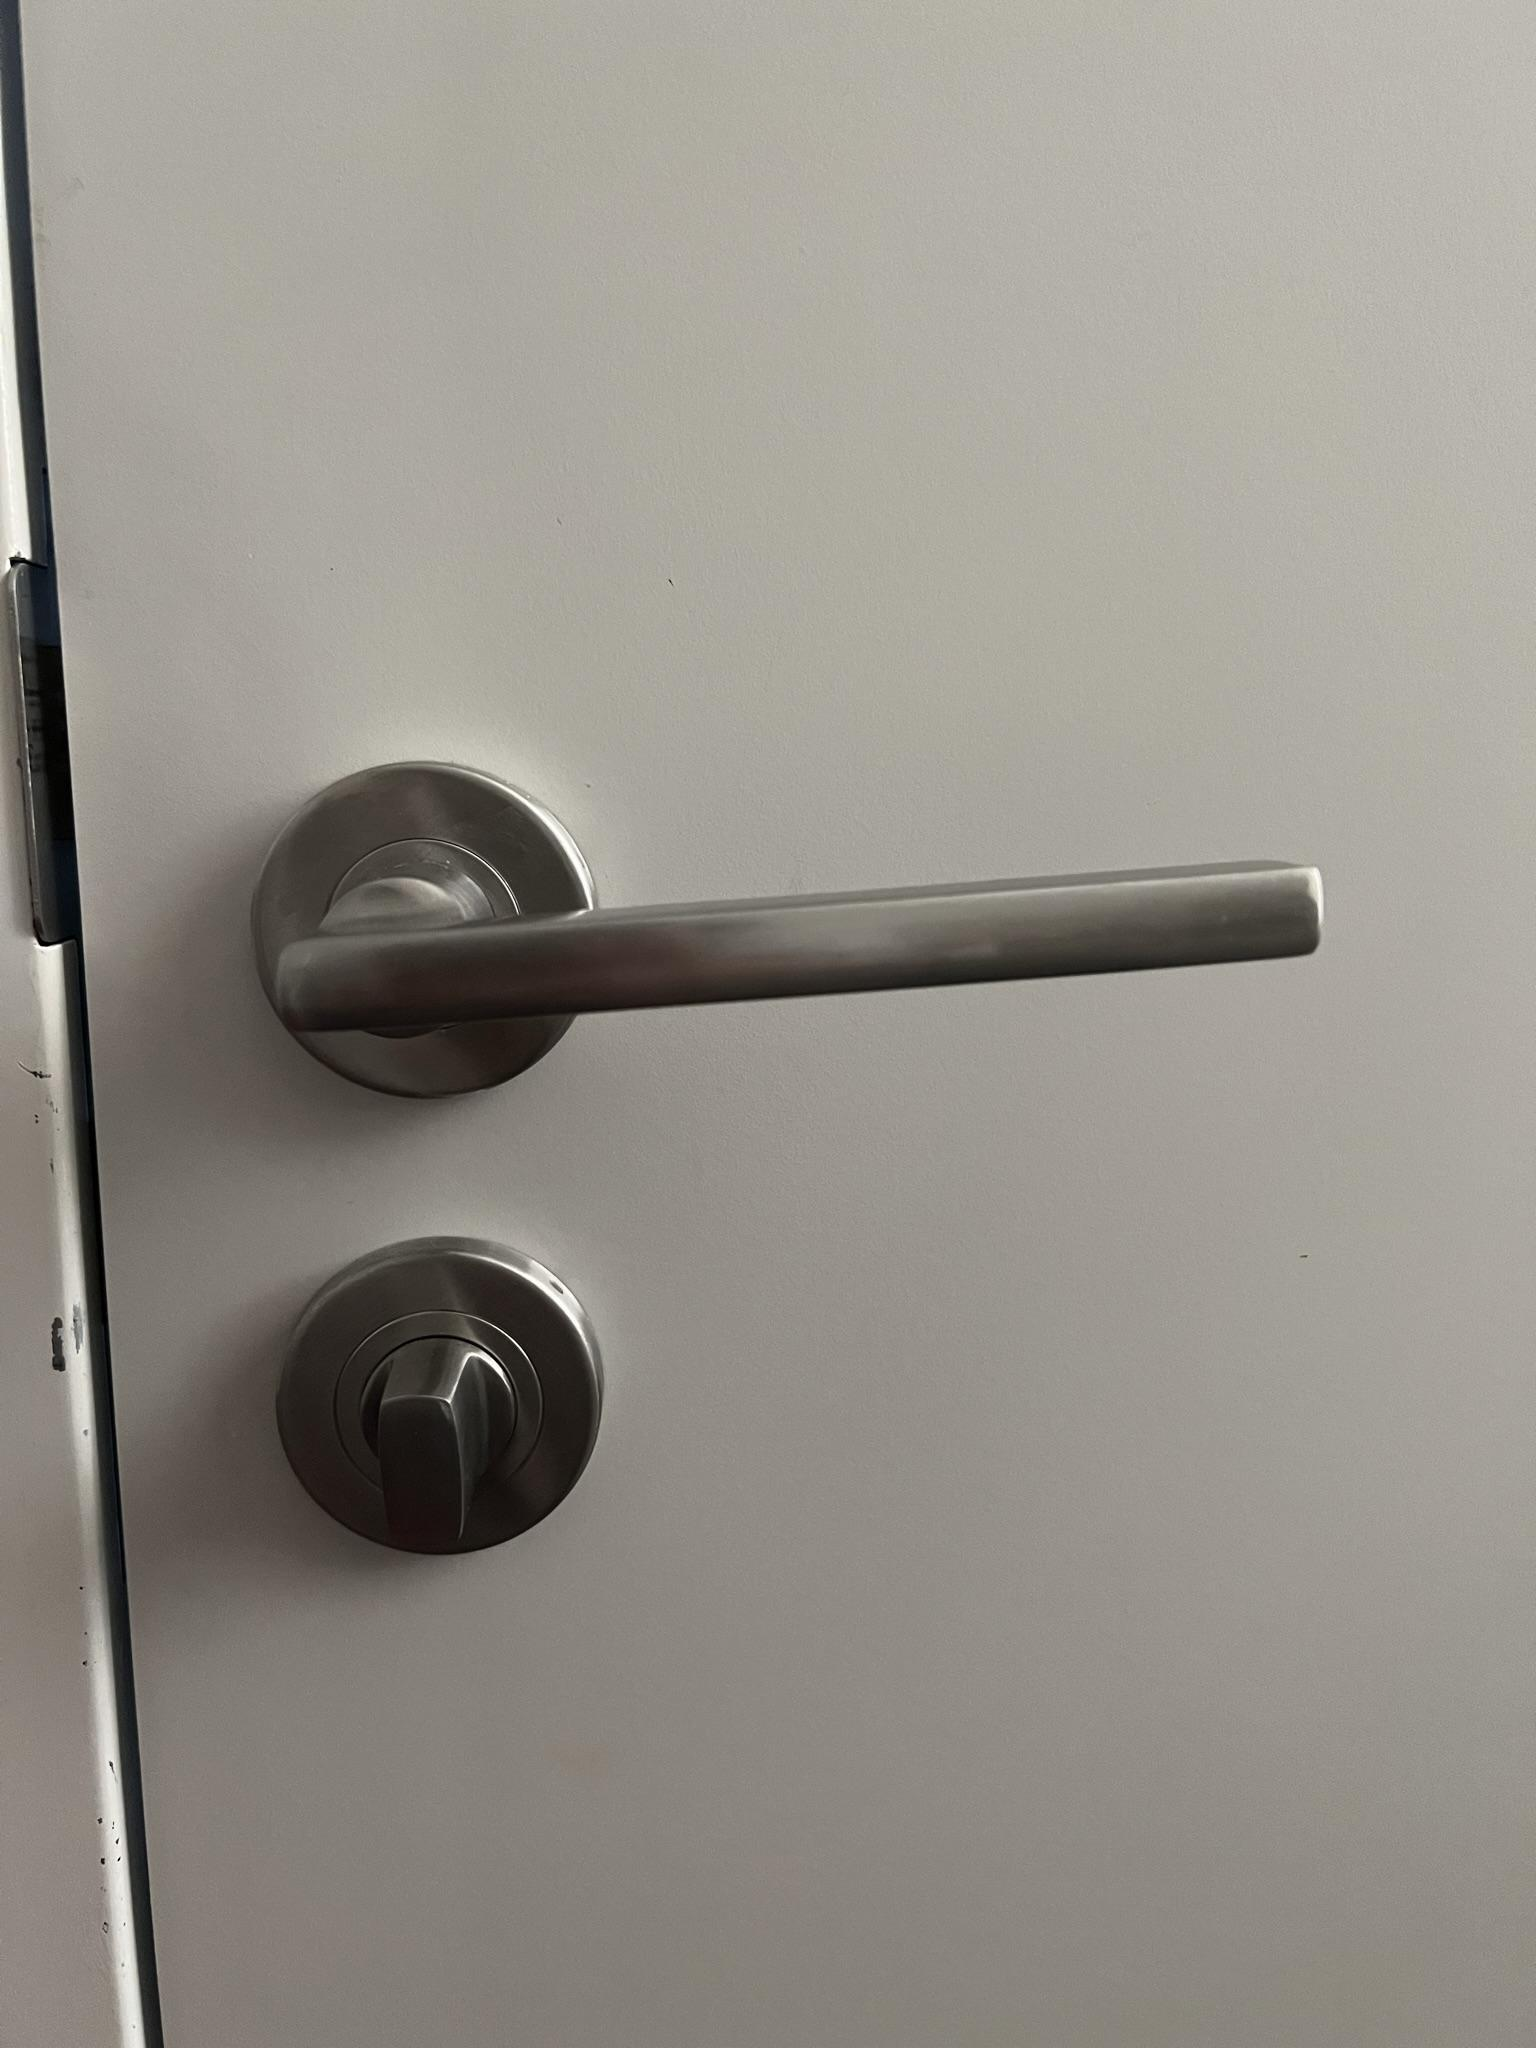handle: (216, 742, 1346, 1582)
